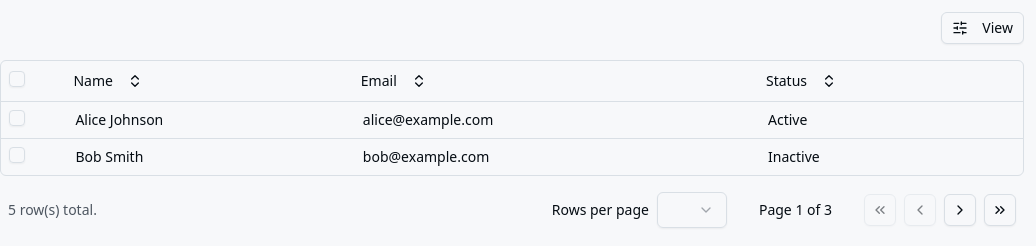
Test: DataTable › Pagination › should paginate data correctly
Check: the text "Alice Johnson" is shown, box x1=67 y1=101 x2=355 y2=138
Check: the text "Bob Smith" is shown, box x1=67 y1=138 x2=355 y2=174
// Click next page
What coordinates should you click on to do the following:
click the 3rd button named "Go to next page"
I would click on:
 (960, 210)
Its box is x1=944 y1=194 x2=976 y2=226.
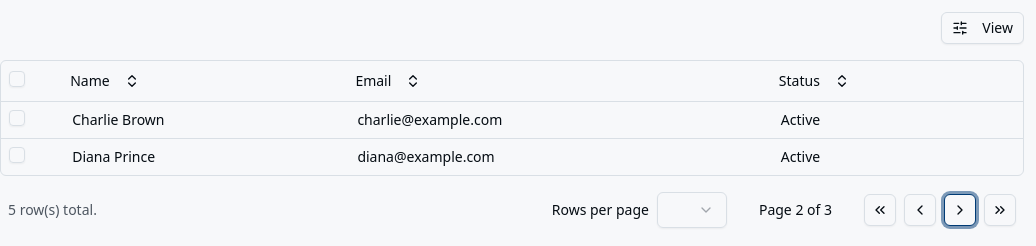
Check: the text "Alice Johnson" is gone
Check: the text "Charlie Brown" is shown, box x1=64 y1=101 x2=349 y2=138
Check: the text "Diana Prince" is shown, box x1=64 y1=138 x2=349 y2=174
